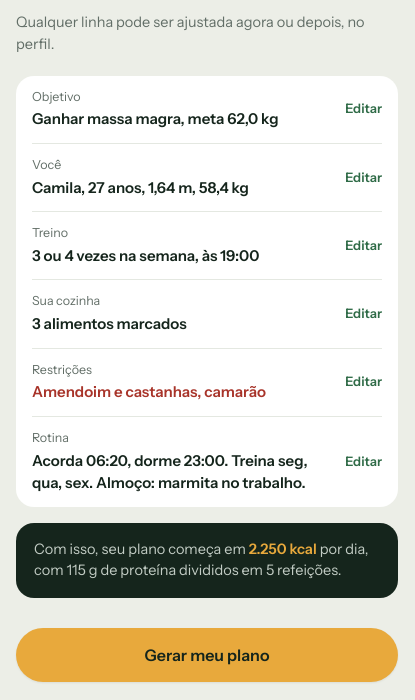
Test case: Resumo (S08) › sem rede, mostra o erro e libera o botão
(page scrolled)
Expected: the text "Amendoim e castanhas, camarão" is shown, top-left (32, 382), bottom-right (266, 401)
Click the button "Gerar meu plano" at (207, 655), box top-left (16, 628), bottom-right (398, 682)
(page scrolled)
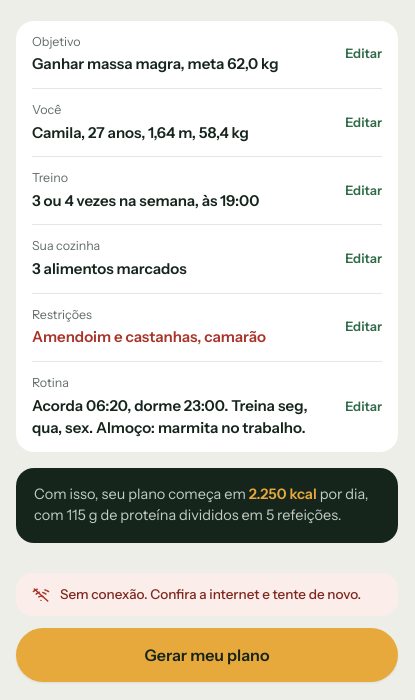
Result: the message reads "Sem conexão. Confira a internet e tente de novo." at top-left (60, 586), bottom-right (361, 602)
